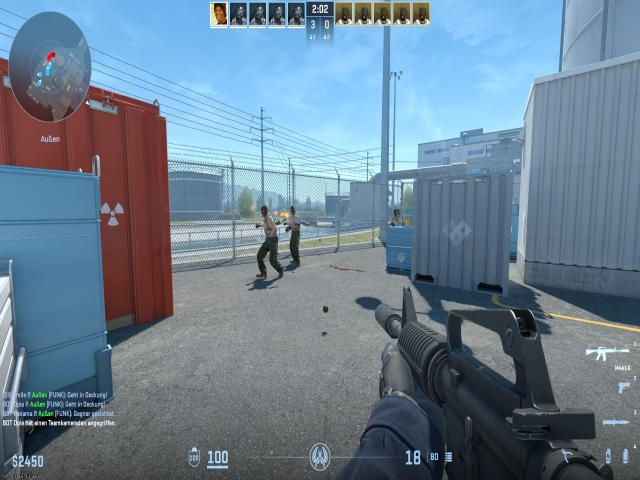T: (258, 205, 278, 274), (288, 204, 301, 266), (390, 209, 403, 227)
T-Head: (260, 204, 270, 219), (290, 206, 296, 215), (393, 210, 399, 217)
